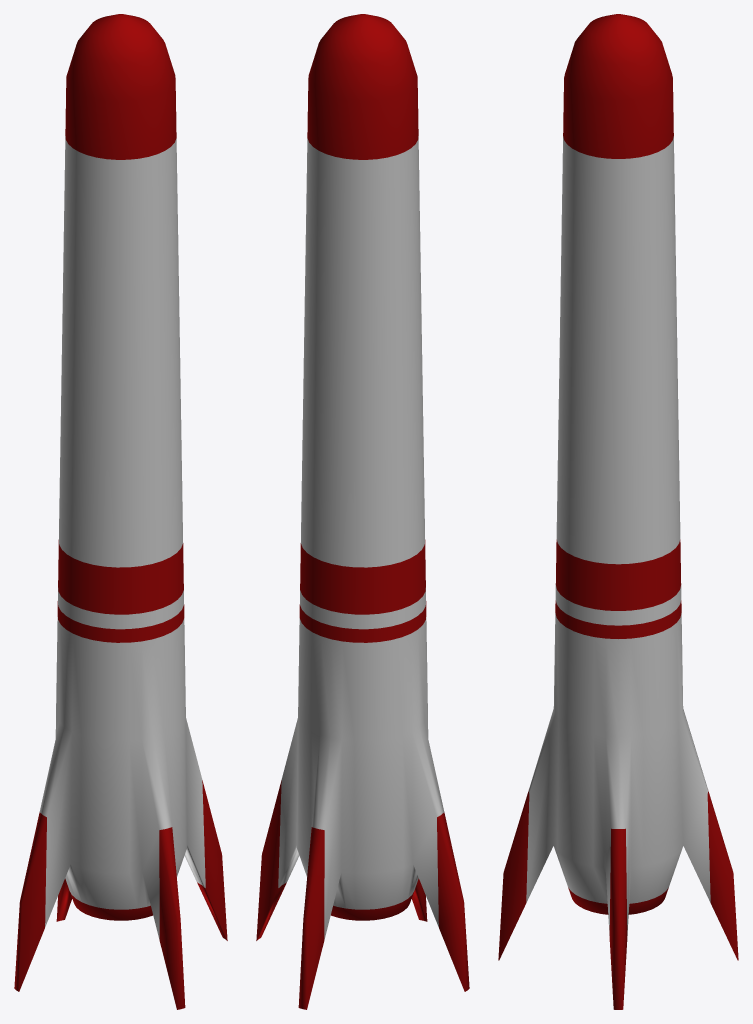
Rendered from rocket.fbx.
3 renders of one model, left to right at view 1: azimuth 30°, elevation 25°; view 2: azimuth 150°, elevation 25°; view 3: azimuth 270°, elevation 25°, orthographic.
Parts seen in each view (by area): view 1: Cylinder; view 2: Cylinder; view 3: Cylinder.
Boxes of the visible parts, x1,y1,x2,y2 form: Cylinder: [14, 14, 227, 1009]; Cylinder: [256, 14, 469, 1009]; Cylinder: [498, 14, 738, 1009].
Size of the model in its own units: 1.03 by 4.47 by 1.03.
